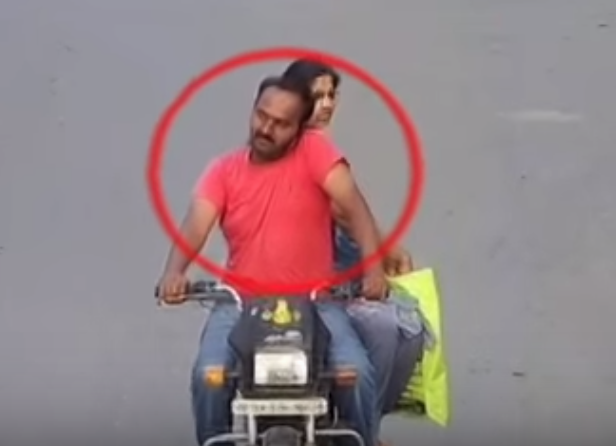h_bike: (194, 40, 390, 446)
h_nohelmet: (243, 70, 308, 158), (298, 57, 343, 127)
numplate: (227, 395, 336, 422)
